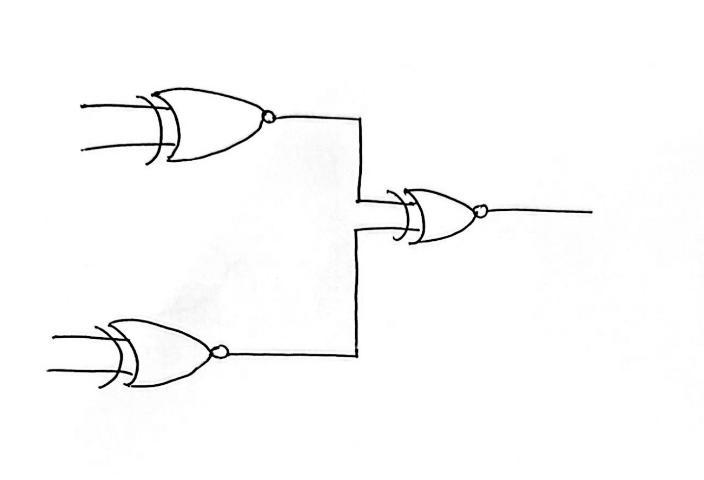XNOR: (87, 307, 244, 402), (134, 81, 283, 174), (378, 176, 507, 267)
